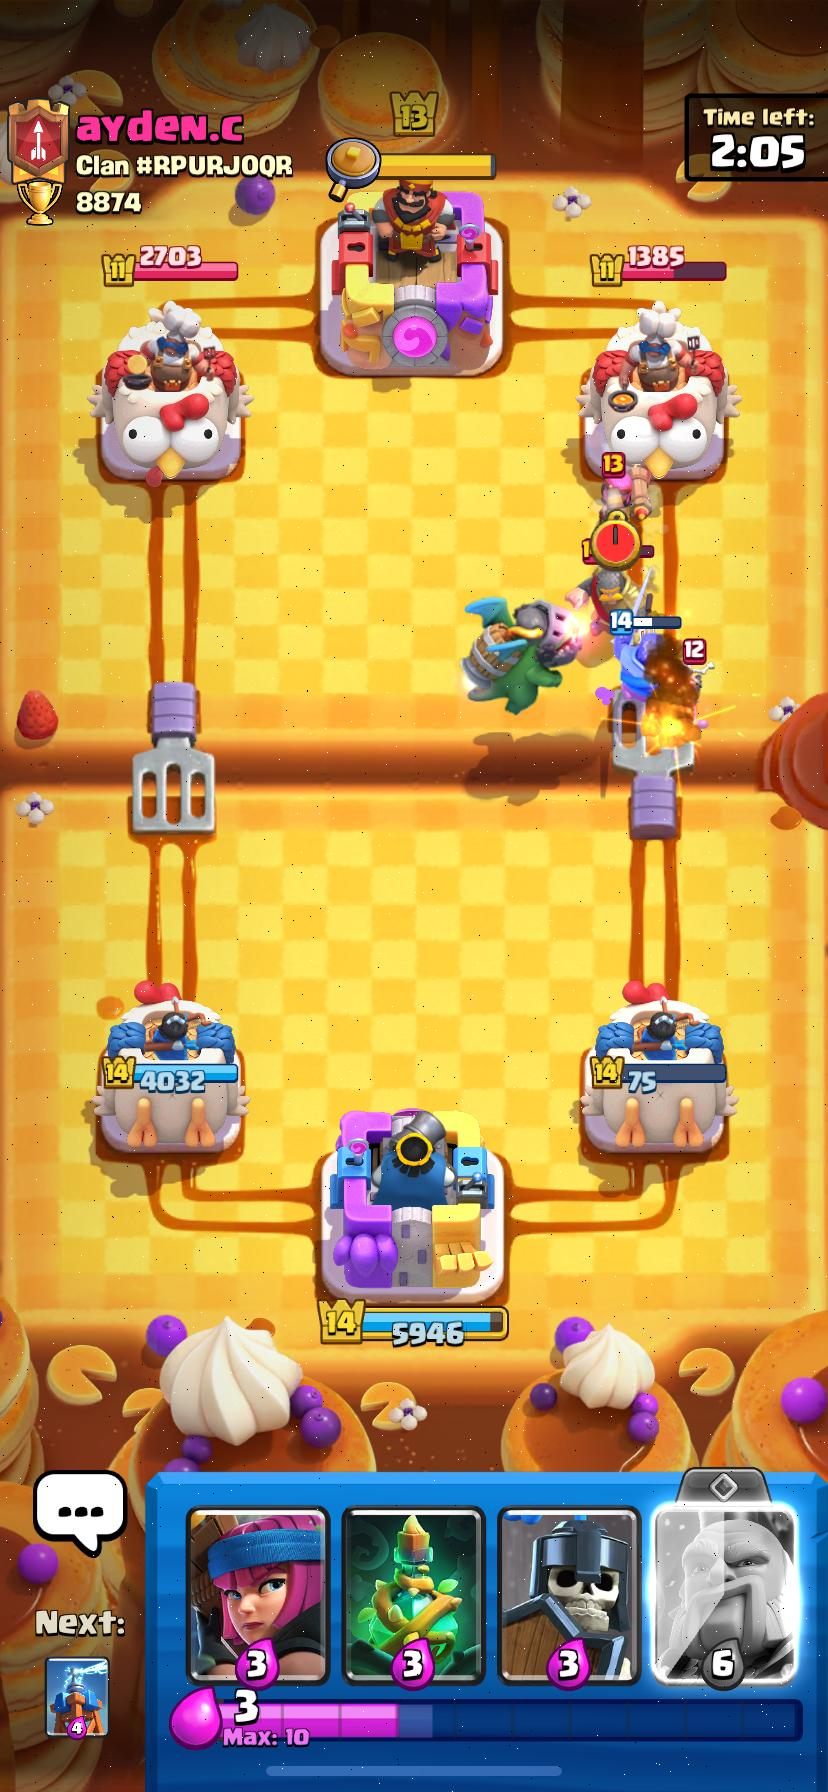EFirecrack: (600, 463, 651, 519)
EKingTower: (320, 176, 502, 378)
EKnight: (567, 568, 638, 632)
EnemyPanTower: (90, 301, 250, 486), (578, 301, 739, 481)
OInfernoDrag: (462, 598, 586, 714)
OKnight: (613, 629, 660, 702)
OwnKingTower: (321, 1109, 503, 1306)
OwnPrincessTower: (580, 982, 735, 1154), (93, 983, 248, 1152)
